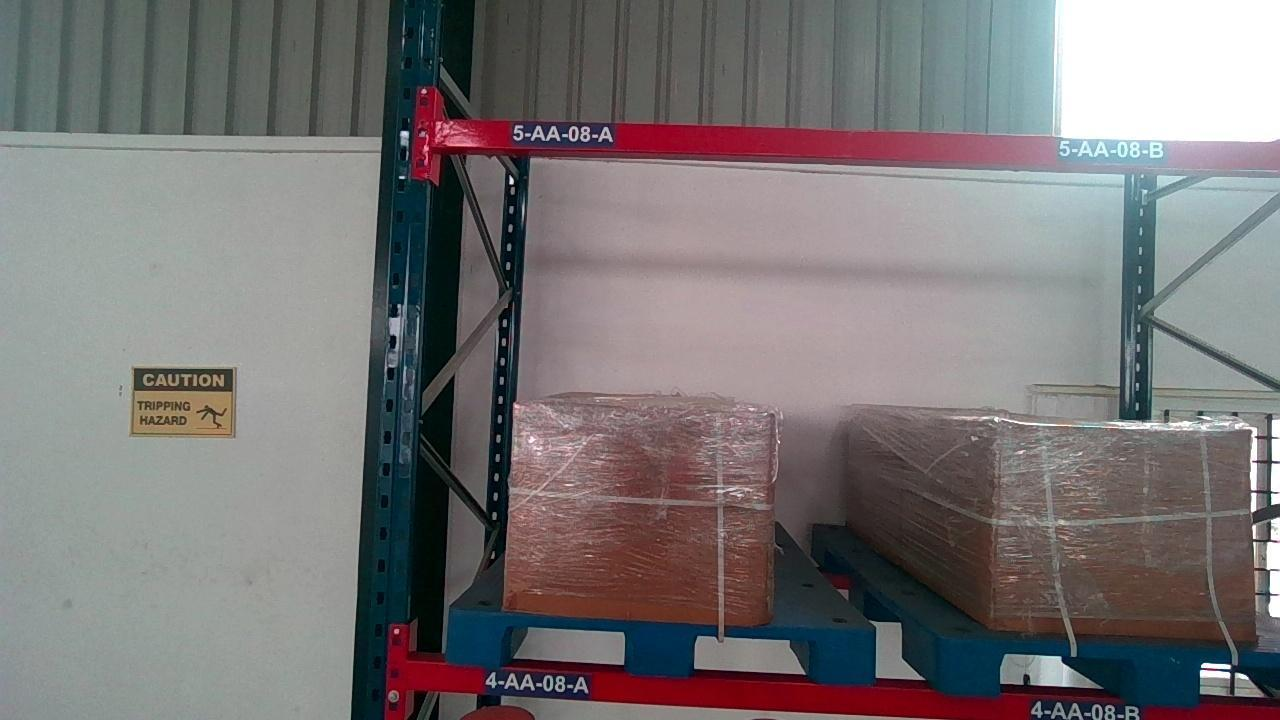h_rack: (418, 661, 1280, 720), (425, 124, 1280, 170)
small_pallet: (438, 616, 878, 675), (950, 643, 1280, 703)
